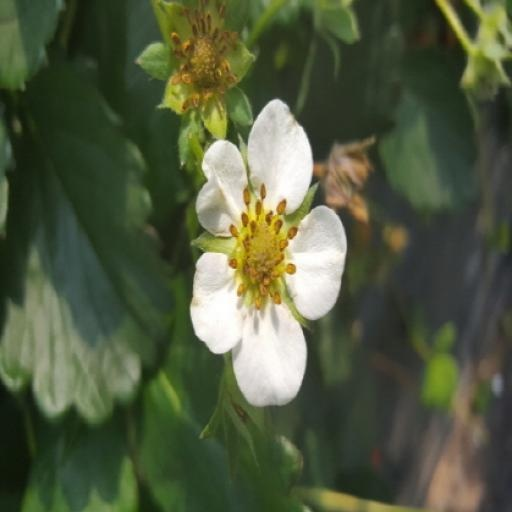Blossom Blight: (223, 179, 306, 315), (163, 0, 245, 118)
